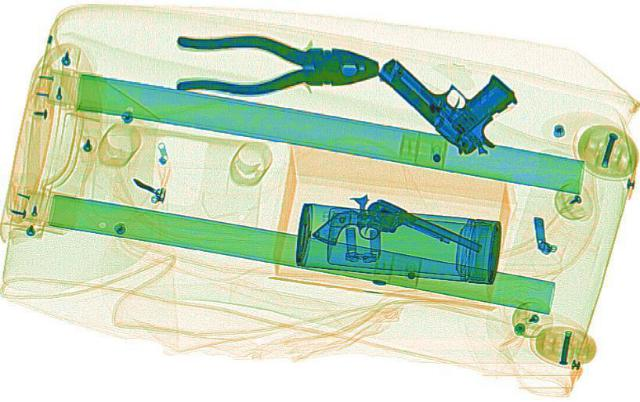Gun: (363, 35, 554, 160), (307, 191, 485, 285)
Pliers: (170, 31, 380, 96)
